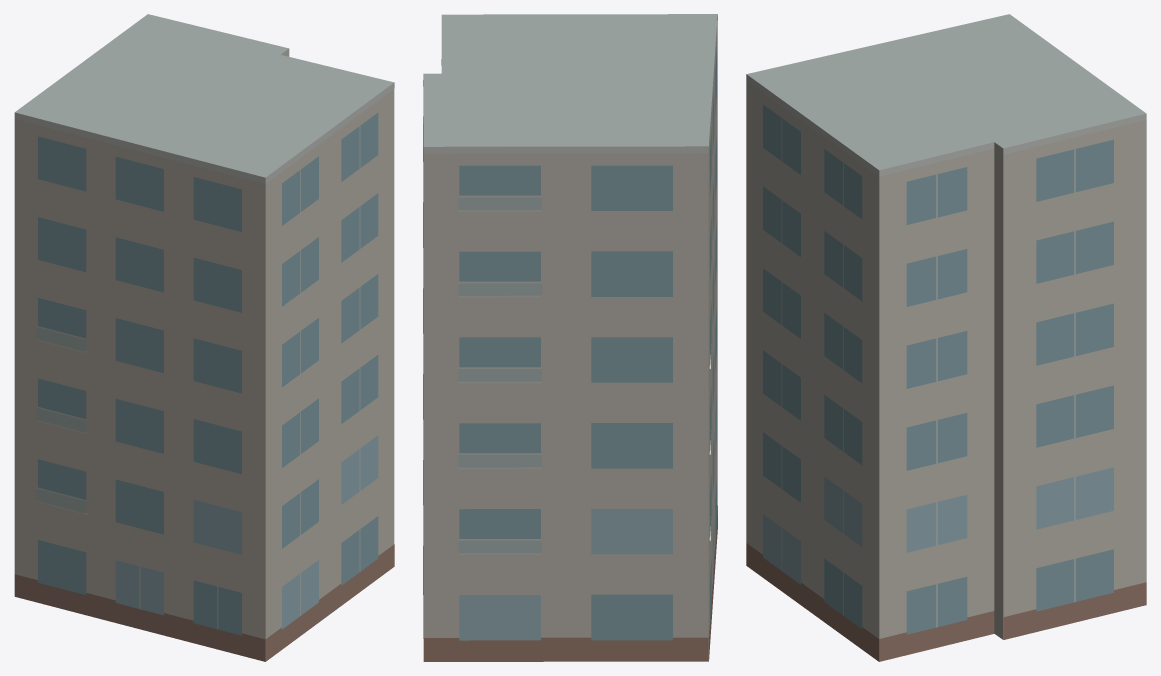
Rendered from survey-upis-32778286.glb.
3 renders of one model, left to right at view 1: azimuth 30°, elevation 25°; view 2: azimuth 150°, elevation 25°; view 3: azimuth 270°, elevation 25°, orthographic. The views are drawn at different scales.
Parts seen in each view (by area): view 1: survey-upis-32778286.tmp; view 2: survey-upis-32778286.tmp; view 3: survey-upis-32778286.tmp.
Boxes of the visible parts, bbox=[...] form: survey-upis-32778286.tmp: bbox=[14, 14, 394, 661]; survey-upis-32778286.tmp: bbox=[423, 14, 717, 661]; survey-upis-32778286.tmp: bbox=[746, 14, 1146, 661].
Bounding box in the file's own units: 12.76 × 18.7 × 13.8.
